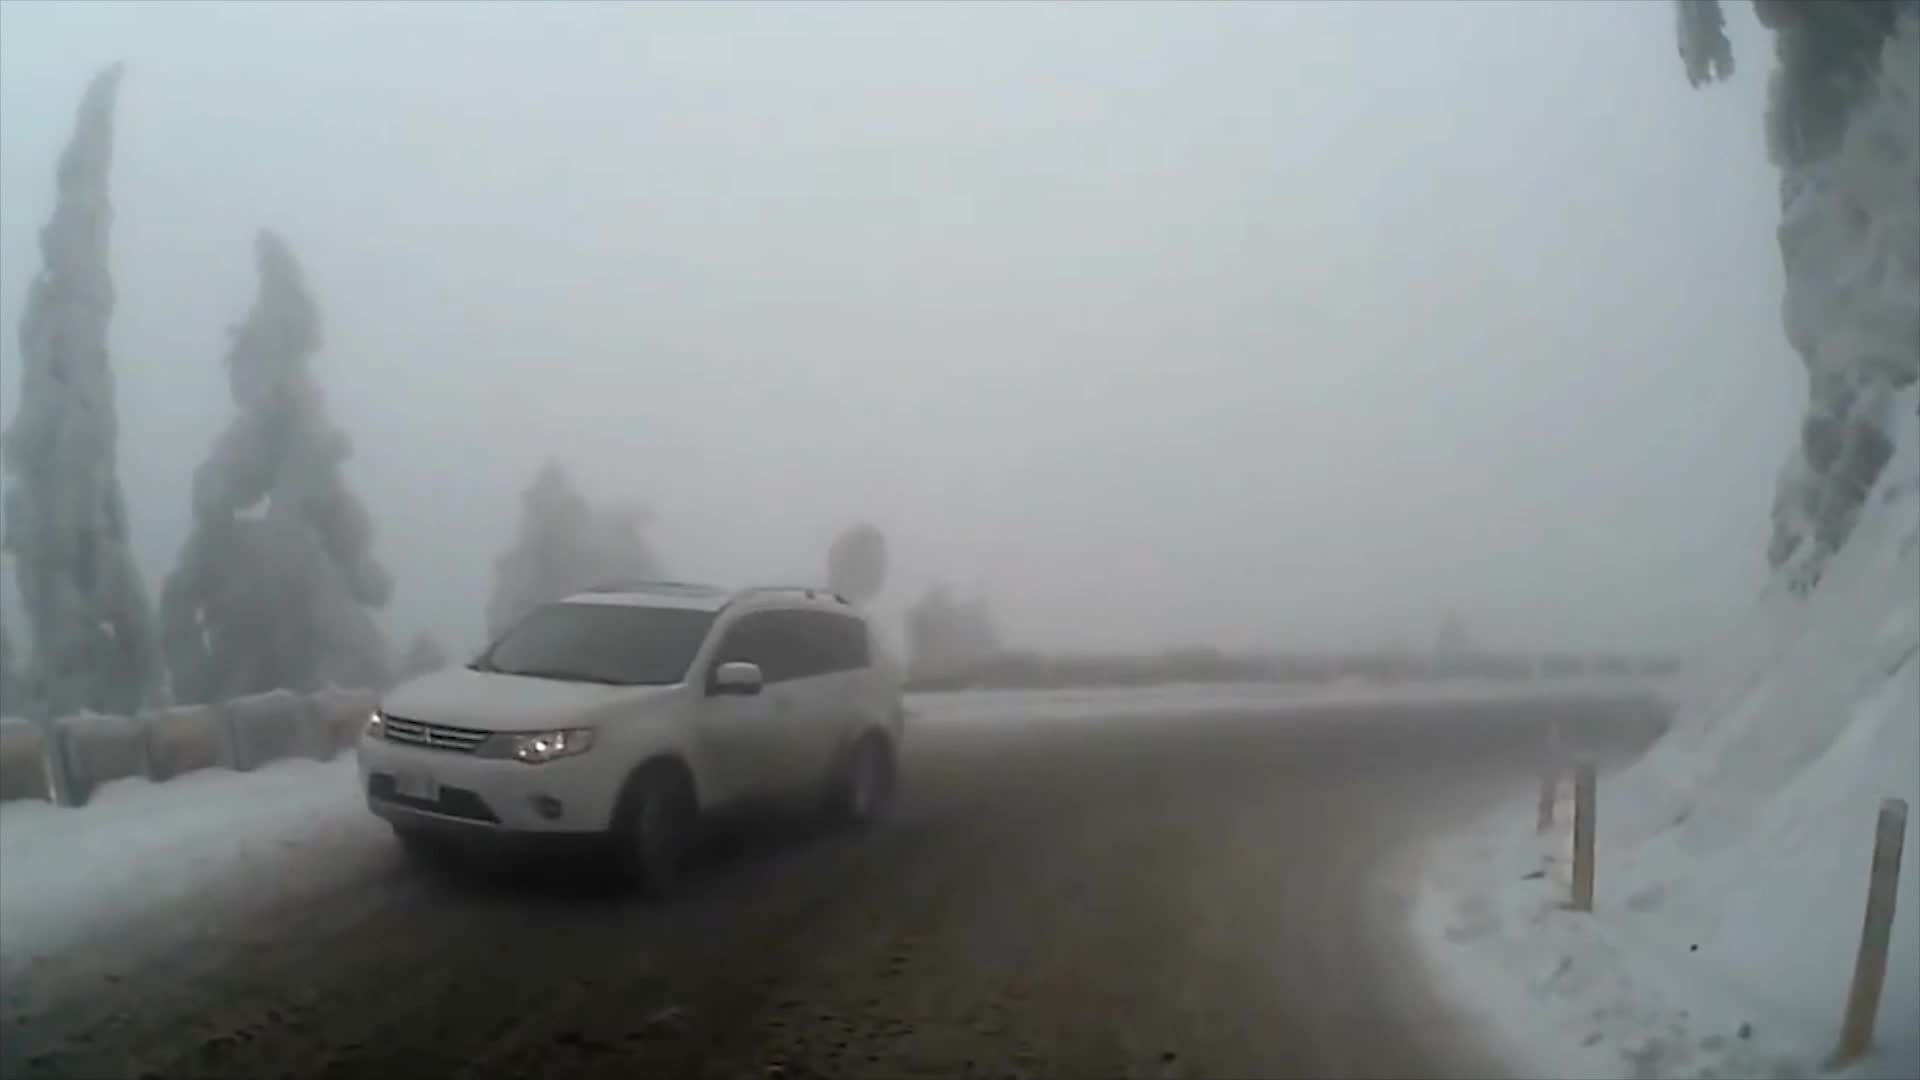vehicle: (353, 578, 907, 889)
